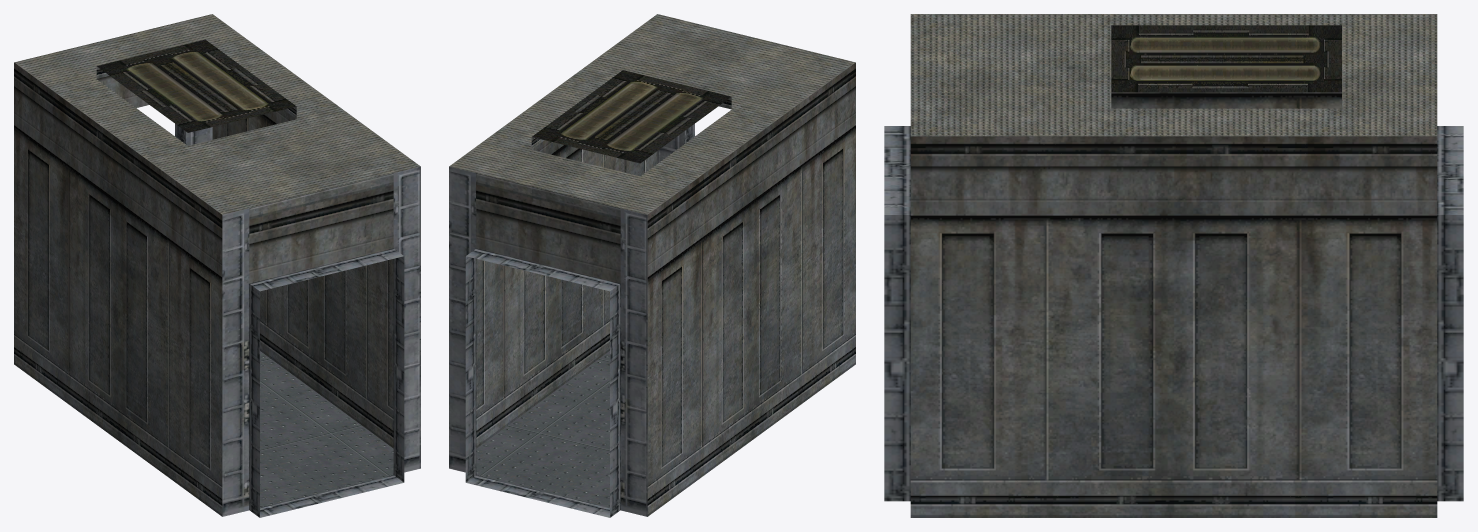
File: poi_all_impl_bunker_abandoned_s01_r1_entry_mesh_r1.fbx
3 renders of one model, left to right at view 1: azimuth 30°, elevation 25°; view 2: azimuth 150°, elevation 25°; view 3: azimuth 270°, elevation 25°, orthographic. The views are drawn at different scales.
Visible parts, largest first — view 1: mesh_node; view 2: mesh_node; view 3: mesh_node.
Boxes of the visible parts, box(x1,y1,x2,y2) form: mesh_node: box(14, 14, 420, 517); mesh_node: box(449, 14, 855, 517); mesh_node: box(884, 14, 1463, 517).
Bounding box in the file's own units: 2.75 × 4.17 × 5.5.
